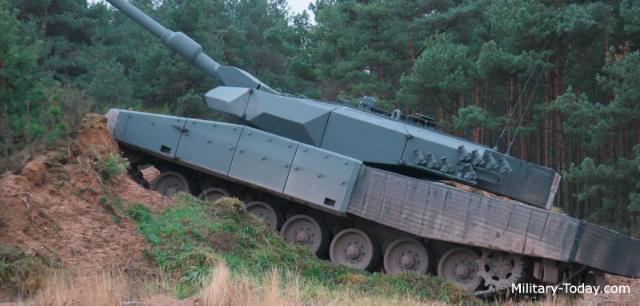tank: (106, 56, 634, 292)
